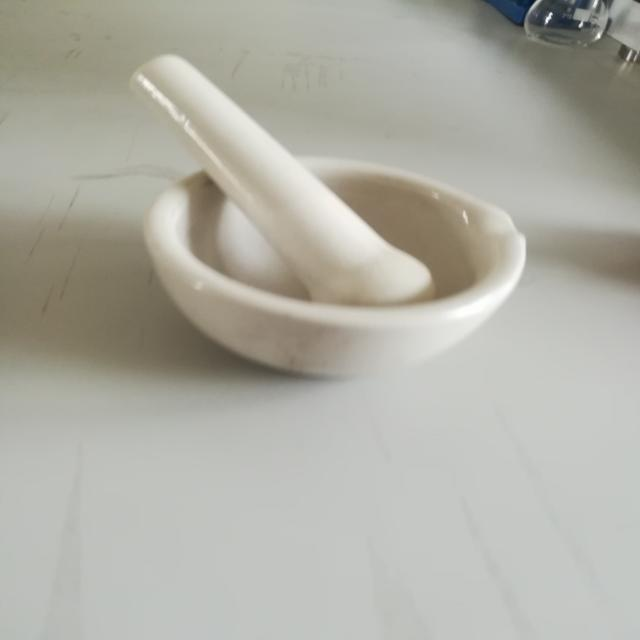Porcelain_Mortar Pestle: (52, 6, 562, 396)
